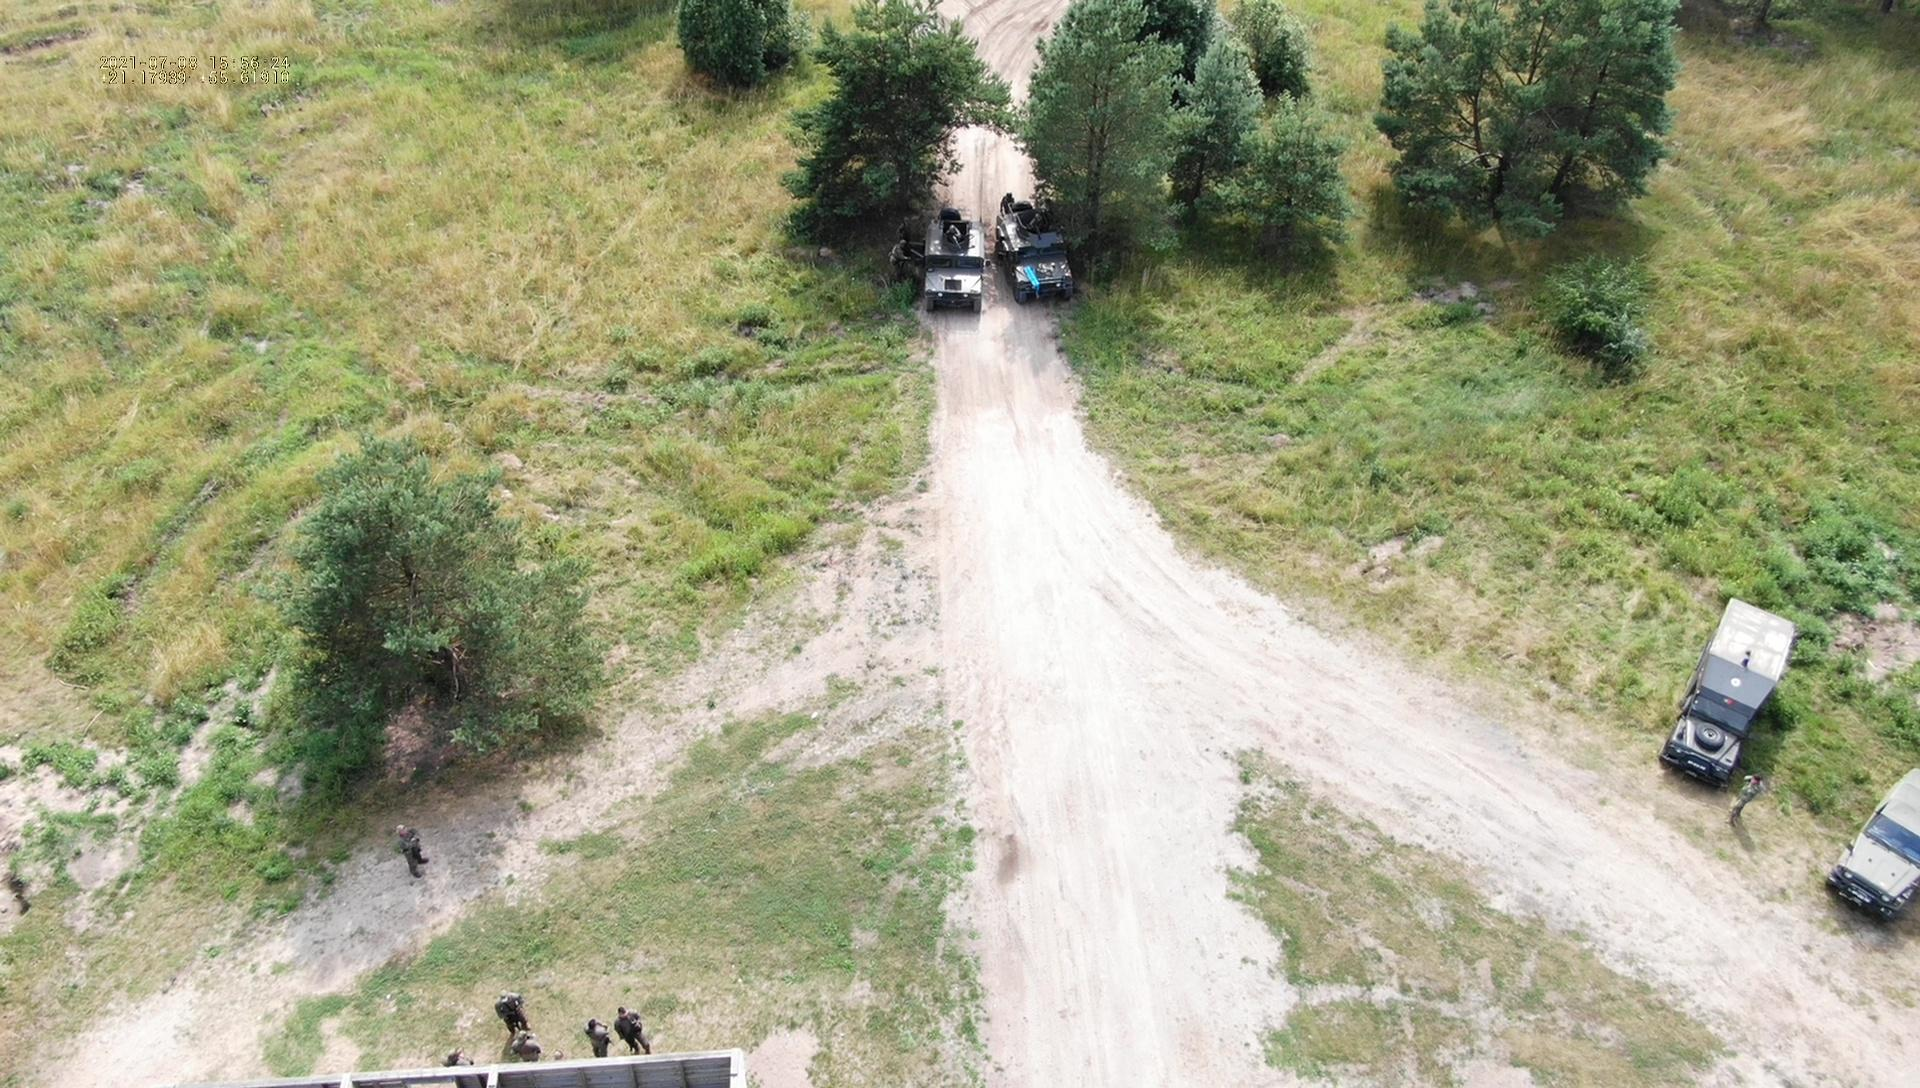Soldier: (393, 812, 433, 884), (1721, 768, 1766, 828), (493, 988, 535, 1044), (891, 235, 916, 282), (943, 218, 967, 255), (1025, 206, 1050, 236)
